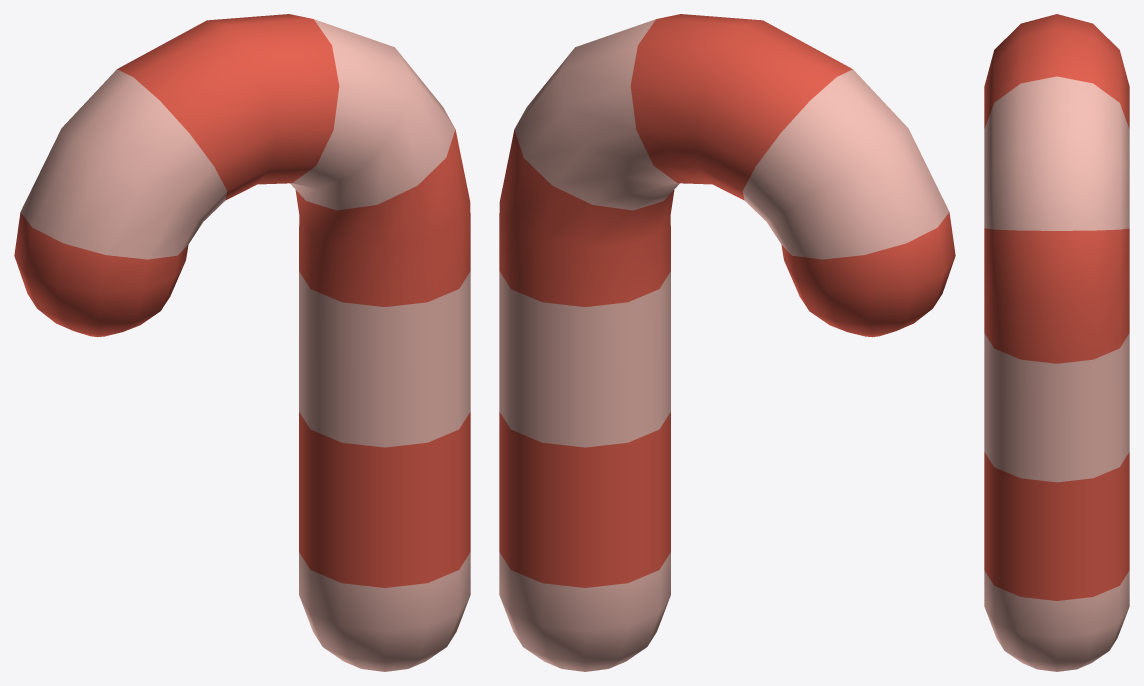
File: Candy_02 1.fbx
3 views of the same model, side by side, from view 1: azimuth 30°, elevation 25°; view 2: azimuth 150°, elevation 25°; view 3: azimuth 270°, elevation 25° (orthographic). The views are drawn at different scales.
Visible parts, largest first — view 1: Candy_02; view 2: Candy_02; view 3: Candy_02.
Part boxes in pixels (left/top/right/bottom): Candy_02: left=14, top=14, right=470, bottom=671; Candy_02: left=499, top=14, right=955, bottom=671; Candy_02: left=984, top=14, right=1129, bottom=671.
Bounding box in the file's own units: 1.56 × 2.34 × 0.5364.
